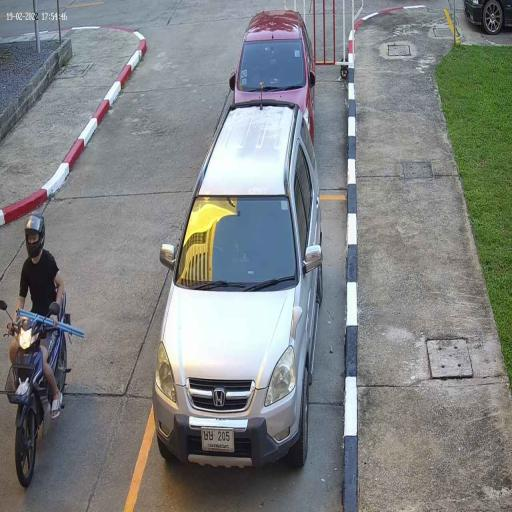car: (150, 104, 325, 474), (230, 11, 314, 110)
motorcycle: (6, 320, 70, 491)
